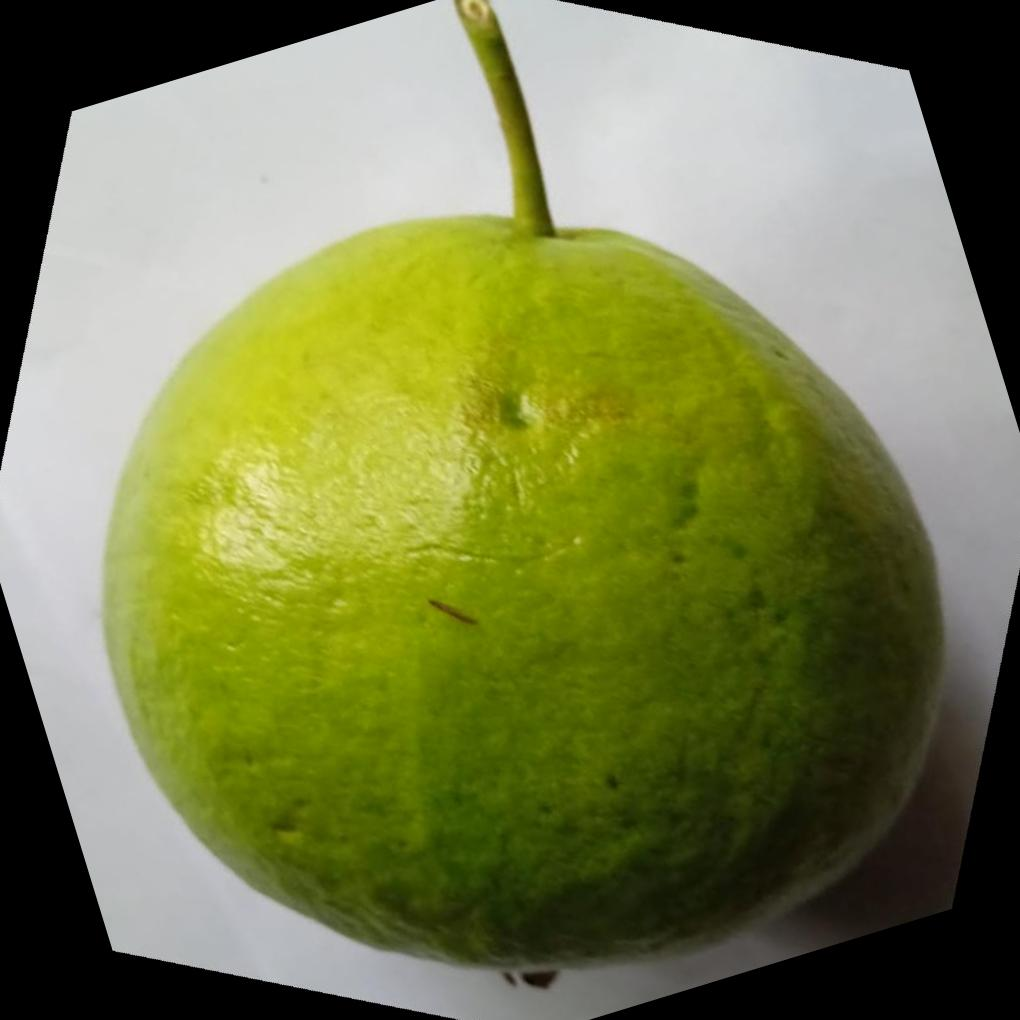FreshGuava: (95, 212, 943, 978)
